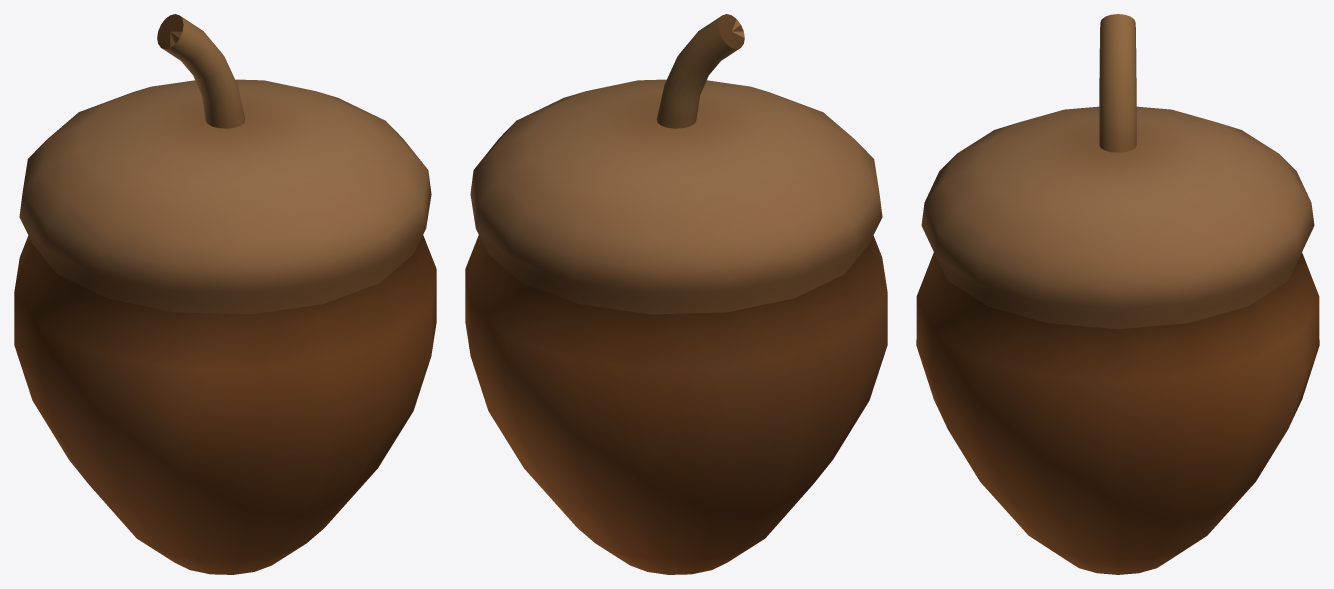
Rendered from ENV1810001.fbx.
3 views of the same model, side by side, from view 1: azimuth 30°, elevation 25°; view 2: azimuth 150°, elevation 25°; view 3: azimuth 270°, elevation 25° (orthographic). The views are drawn at different scales.
Visible parts, largest first — view 1: smENV1810001; view 2: smENV1810001; view 3: smENV1810001.
Part boxes in pixels (left/top/right/bottom): smENV1810001: left=14, top=14, right=436, bottom=574; smENV1810001: left=465, top=14, right=887, bottom=574; smENV1810001: left=916, top=14, right=1319, bottom=574.
Size of the model in its own units: 4.65 by 6.85 by 4.65.
Materials: 1 (1 with a texture image).
